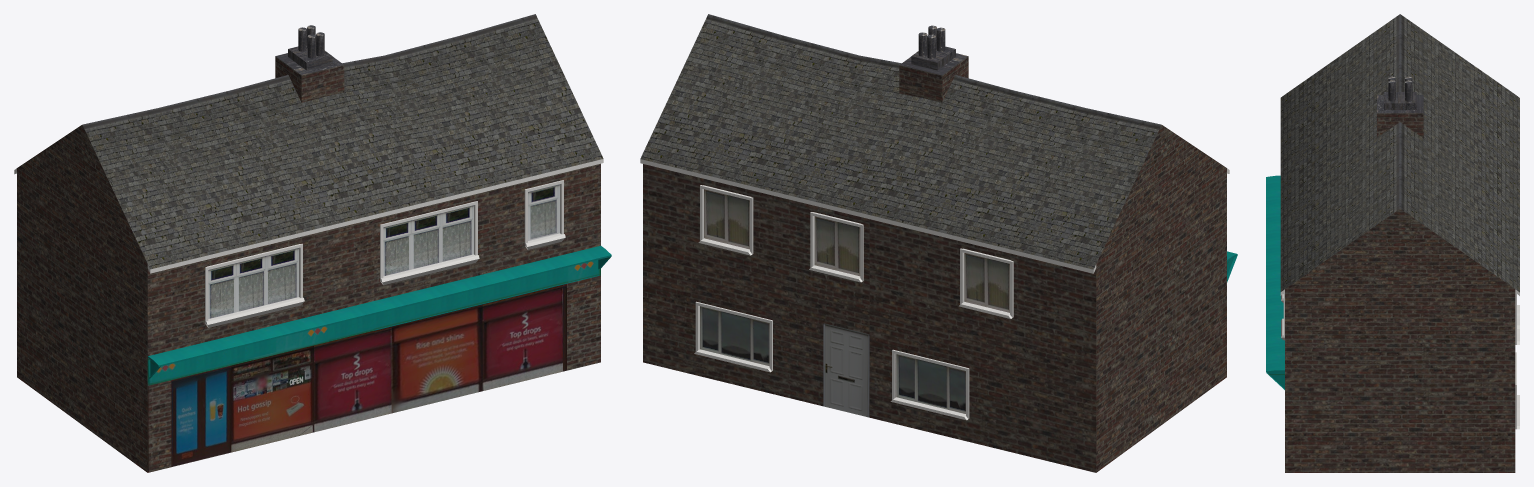
Rendered from ukcommercialfood17.FBX.
The picture shows the model from 3 angles, left to right: view 1: azimuth 30°, elevation 25°; view 2: azimuth 150°, elevation 25°; view 3: azimuth 270°, elevation 25°; orthographic projection. The views are drawn at different scales.
Visible parts, largest first — view 1: Box002; view 2: Box002; view 3: Box002.
Part boxes in pixels (box(x1,y1,x2,y2)): Box002: box(14, 14, 611, 472); Box002: box(640, 14, 1237, 472); Box002: box(1266, 14, 1519, 472).
Bounding box in the file's own units: 1600 × 1137 × 881.
